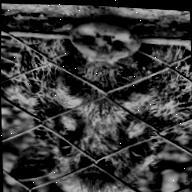boar: (3, 11, 192, 192)
